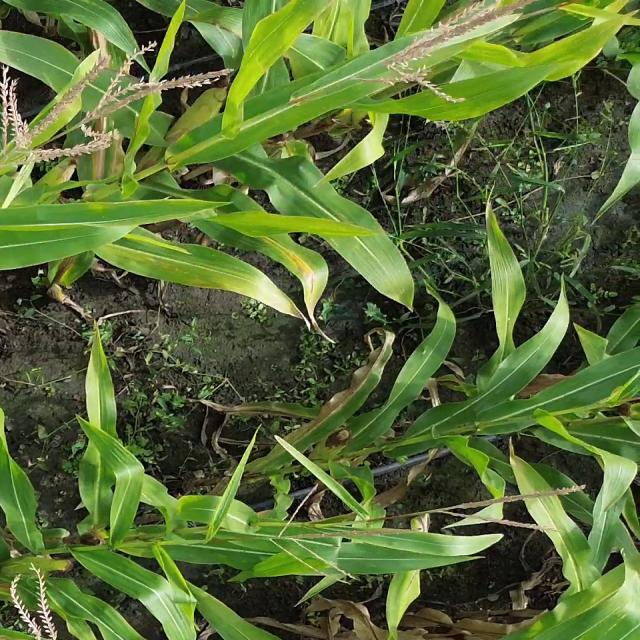northern-leaf-blight: (111, 234, 269, 316), (258, 227, 348, 311)
